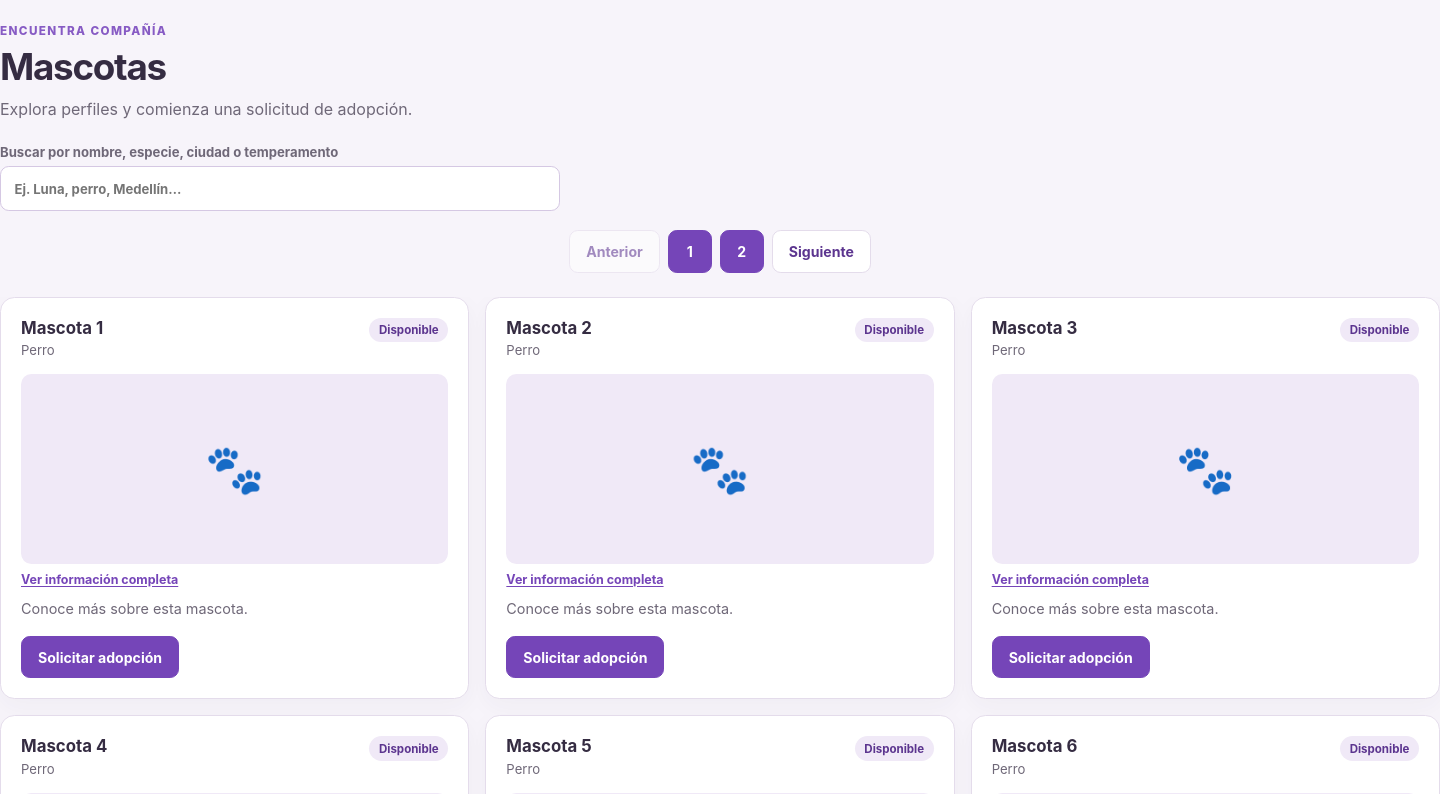
Test: adopter pet discovery › shows adopter pets in pages of fifteen with numbered navigation
Check: the heading "Mascota 16" is not shown
Click the button named "Página 2" at (742, 251), box [720,230,764,273]
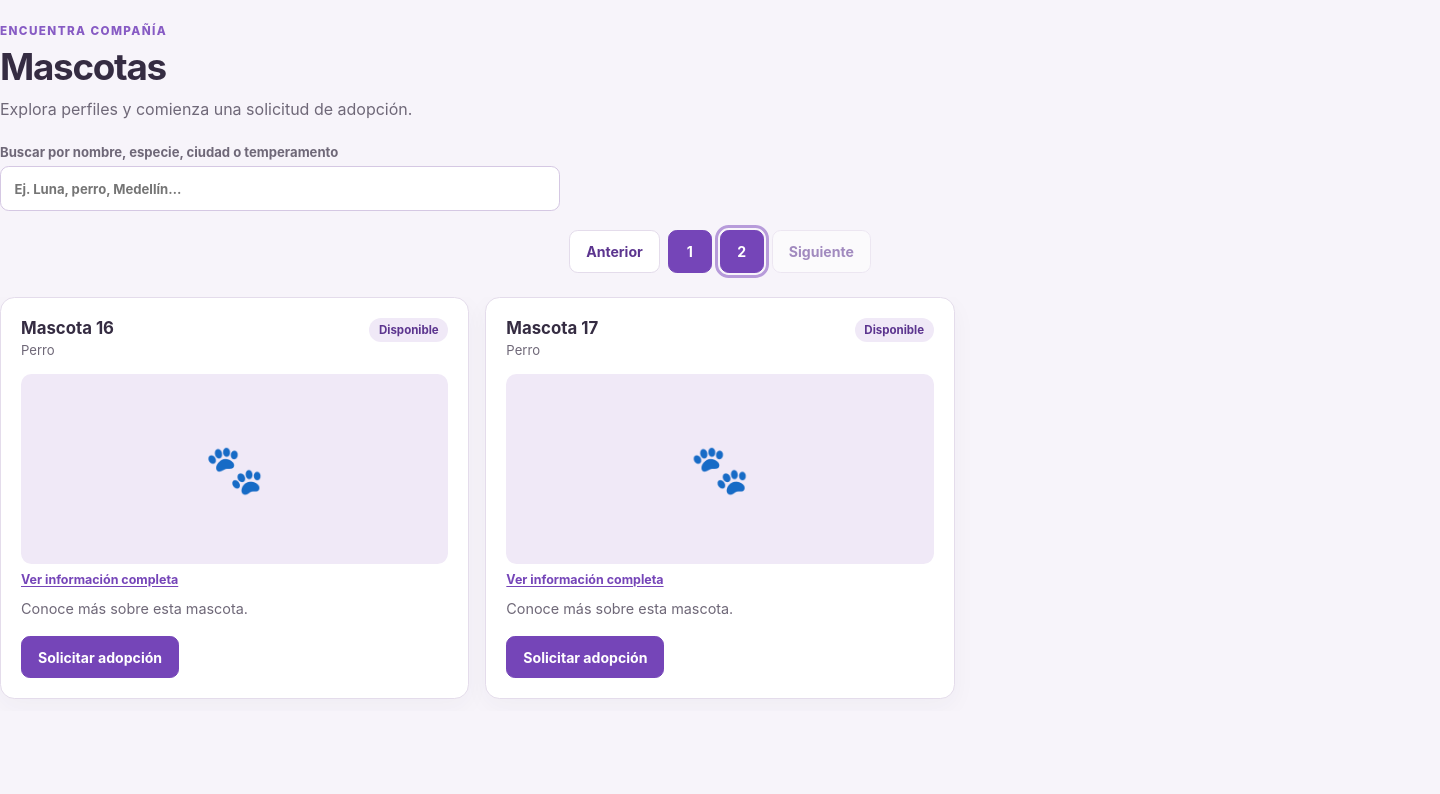
Check: the heading "Mascota 16" is shown, box [21,318,114,338]
Check: the heading "Mascota 17" is shown, box [506,318,598,338]
